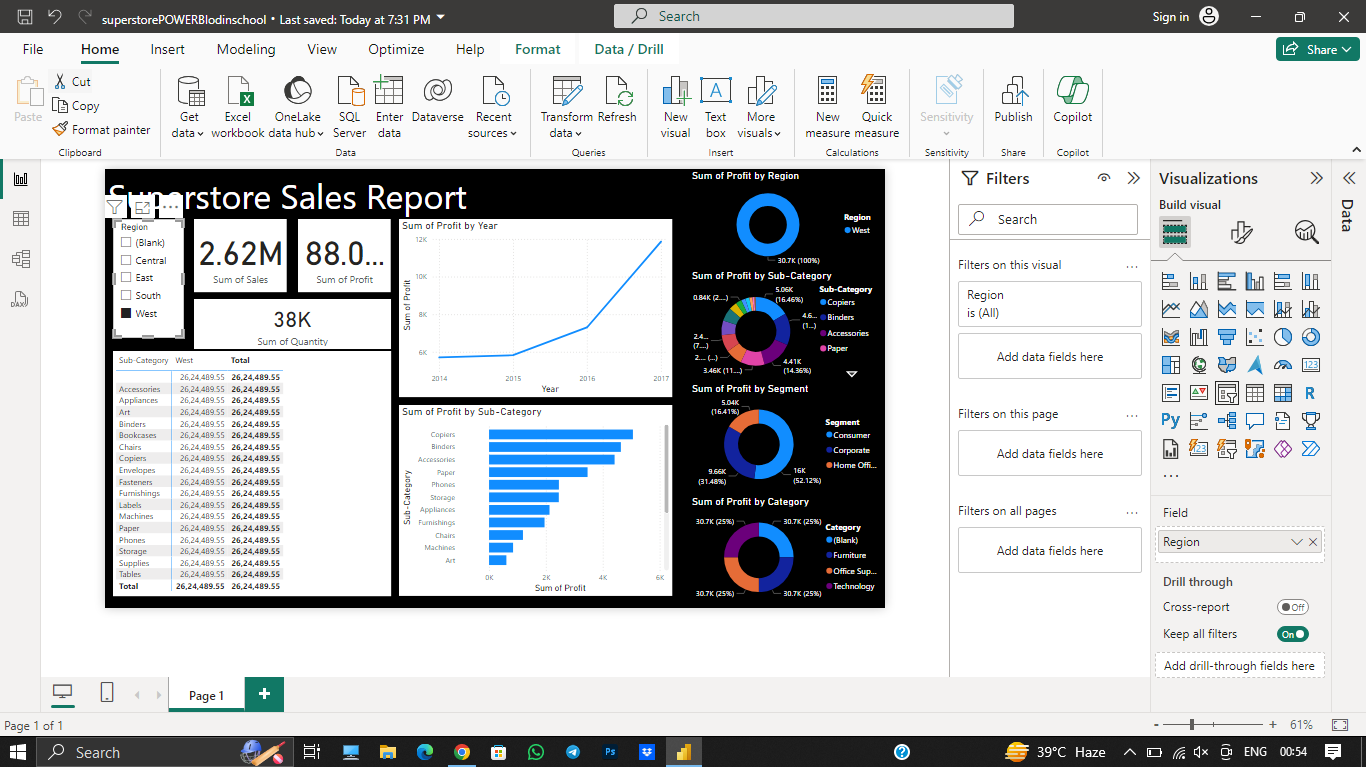

The dashboard page shown, as its layout file describes it:
{"tool":"powerbi","page":{"name":"Superstore Sales","canvas":[1280,720],"ordinal":0},"visuals":[{"type":"textbox","box":[0,0,854.1,137.7],"z":0},{"type":"donutChart","fields":{"Category":["Orders.Category"],"Y":["Sum(Orders (3).Profit)"]},"box":[957.4,534.4,323,185.2],"z":1000},{"type":"donutChart","fields":{"Category":["Orders (3).Segment"],"Y":["Sum(Orders (3).Profit)"]},"box":[957.4,349.2,323,185.2],"z":2000},{"type":"donutChart","fields":{"Category":["Orders (3).Sub-Category"],"Y":["Sum(Orders (3).Profit)"]},"box":[957.4,163.9,323,185.2],"z":3000},{"type":"donutChart","fields":{"Category":["Orders (3).Region"],"Y":["Sum(Orders (3).Profit)"]},"box":[957.4,0,323,163.9],"z":4000},{"type":"barChart","fields":{"Category":["Orders (3).Sub-Category"],"Y":["Sum(Orders (3).Profit)"]},"box":[482,386.9,447.5,313.1],"z":5000},{"type":"lineChart","fields":{"Category":["Orders (3).Order Date.Variation.Date Hierarchy.Year","Orders (3).Order Date.Variation.Date Hierarchy.Quarter"],"Y":["Sum(Orders (3).Profit)"]},"box":[482,82,447.5,291.8],"z":6000},{"type":"slicer","fields":{"Values":["Orders (3).Region"]},"box":[13.1,82,116.4,195.1],"z":7000},{"type":"pivotTable","fields":{"Rows":["Orders (3).Sub-Category"],"Columns":["Orders (3).Region"],"Values":["Sum(Orders (4).Sales)"]},"box":[13.1,298.4,455.7,401.6],"z":8000},{"type":"card","fields":{"Values":["Sum(Orders (4).Sales)"]},"box":[145.9,82,152.5,119.7],"z":9000},{"type":"card","fields":{"Values":["Sum(Orders (4).Profit)"]},"box":[316.4,82,152.5,119.7],"z":10000},{"type":"card","fields":{"Values":["Sum(Orders (4).Quantity)"]},"box":[145.9,213.1,323,82],"z":11000}]}

Visuals, with their boxes on the page's 1280x720 design canvas (x1, y1, x2, y2). These are canvas units, not pixel positions in the 1366x767 screenshot, which may show the page scaled, cropped or inside an application window:
textbox: x1=0 y1=0 x2=854 y2=138
donutChart - Orders.Category x Sum(Orders (3).Profit): x1=957 y1=534 x2=1280 y2=720
donutChart - Orders (3).Segment x Sum(Orders (3).Profit): x1=957 y1=349 x2=1280 y2=534
donutChart - Orders (3).Sub-Category x Sum(Orders (3).Profit): x1=957 y1=164 x2=1280 y2=349
donutChart - Orders (3).Region x Sum(Orders (3).Profit): x1=957 y1=0 x2=1280 y2=164
barChart - Orders (3).Sub-Category x Sum(Orders (3).Profit): x1=482 y1=387 x2=930 y2=700
lineChart - Orders (3).Order Date.Variation.Date Hierarchy.Year x Orders (3).Order Date.Variation.Date Hierarchy.Quarter: x1=482 y1=82 x2=930 y2=374
slicer - Orders (3).Region: x1=13 y1=82 x2=130 y2=277
pivotTable - Orders (3).Sub-Category x Orders (3).Region: x1=13 y1=298 x2=469 y2=700
card - Sum(Orders (4).Sales): x1=146 y1=82 x2=298 y2=202
card - Sum(Orders (4).Profit): x1=316 y1=82 x2=469 y2=202
card - Sum(Orders (4).Quantity): x1=146 y1=213 x2=469 y2=295
